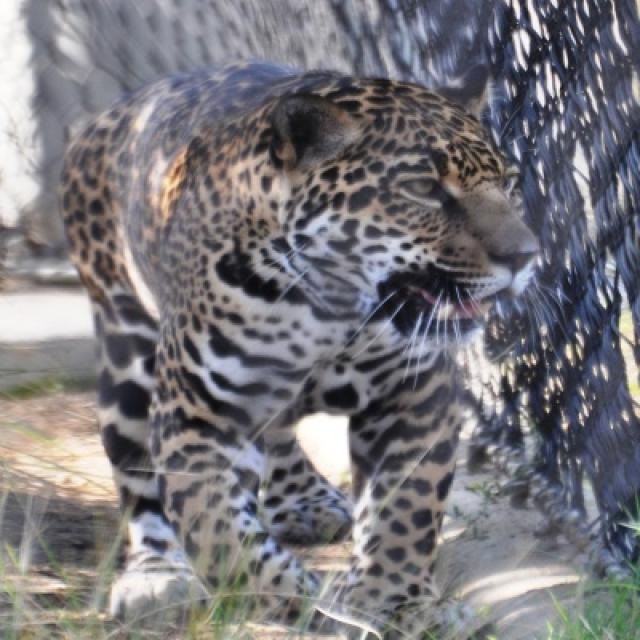Jaguar: (63, 63, 541, 636)
